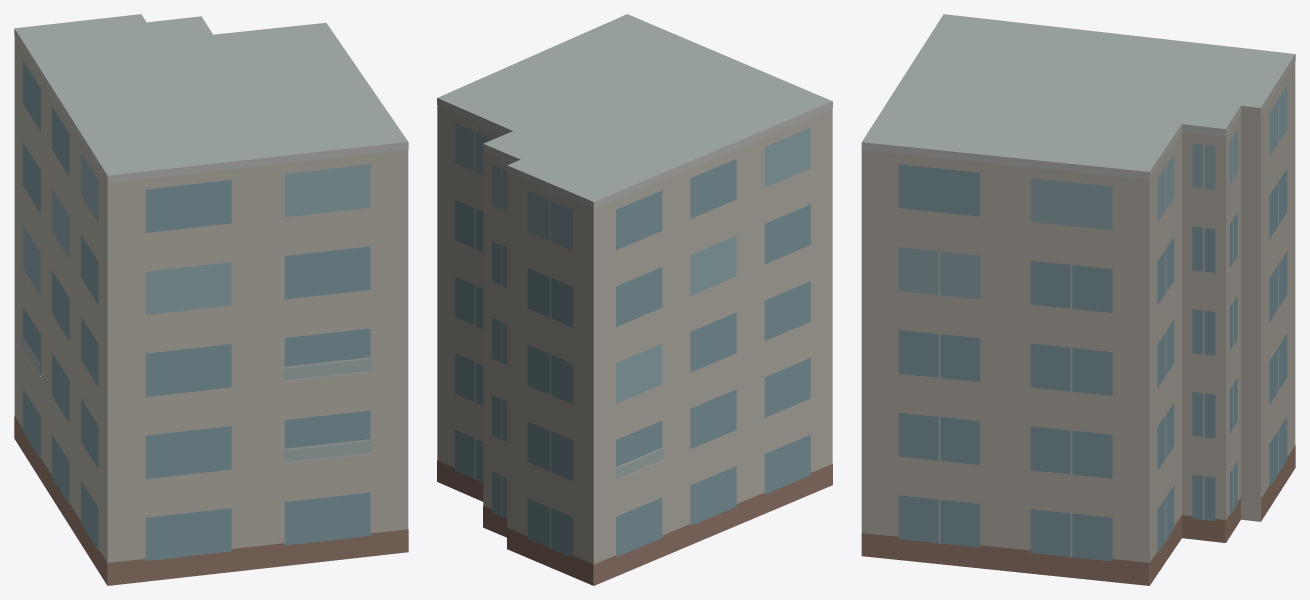
Rendered from survey-upis-32721535.glb.
The picture shows the model from 3 angles, left to right: view 1: azimuth 30°, elevation 25°; view 2: azimuth 150°, elevation 25°; view 3: azimuth 270°, elevation 25°; orthographic projection. The views are drawn at different scales.
Parts seen in each view (by area): view 1: survey-upis-32721535.tmp; view 2: survey-upis-32721535.tmp; view 3: survey-upis-32721535.tmp.
Boxes of the visible parts, bbox=[...] form: survey-upis-32721535.tmp: bbox=[14, 14, 408, 585]; survey-upis-32721535.tmp: bbox=[437, 14, 832, 585]; survey-upis-32721535.tmp: bbox=[861, 14, 1295, 585].
Bounding box in the file's own units: 10.77 × 13.15 × 12.5.
